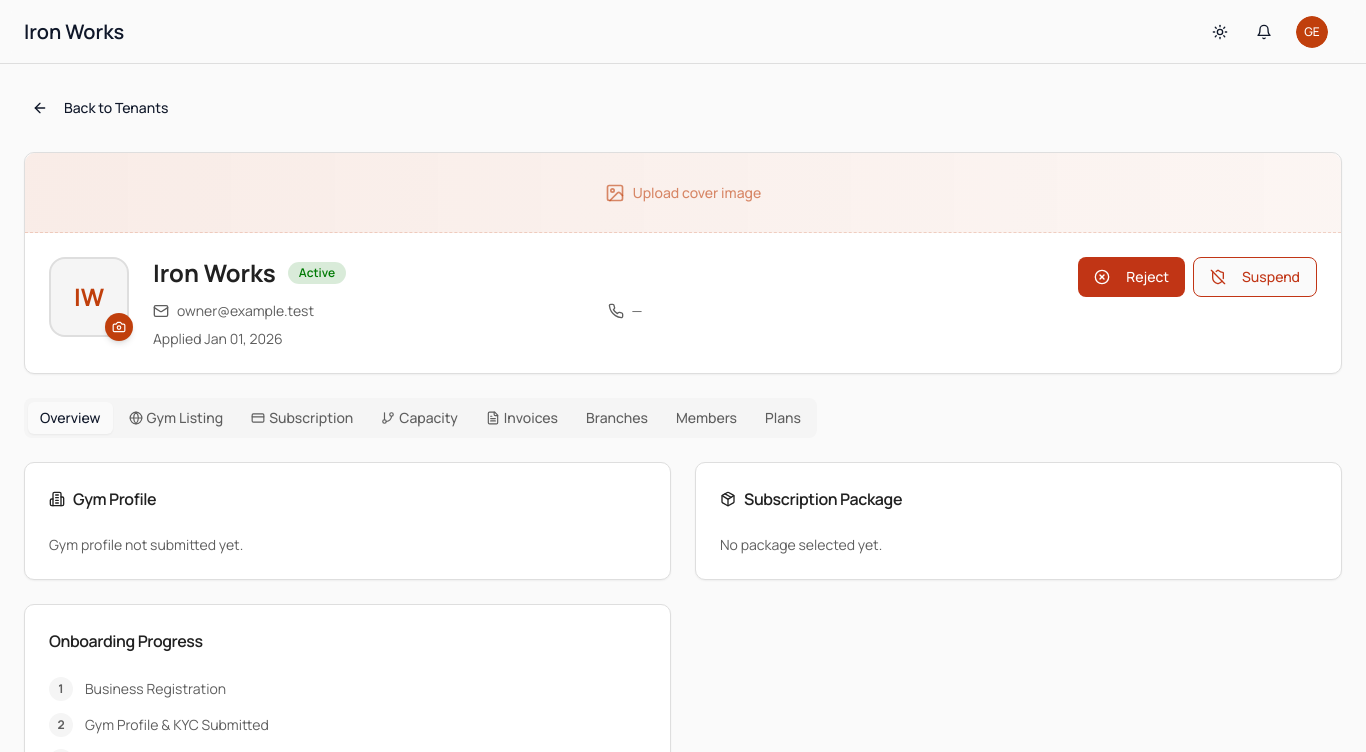
Scenario: Admin tenant detail fetches only the open tab (UX-17, PERF-10) › opening Invoices fetches invoices only
Press the mouse on the tab "Invoices" at [522, 418], box [474,402,570,434]
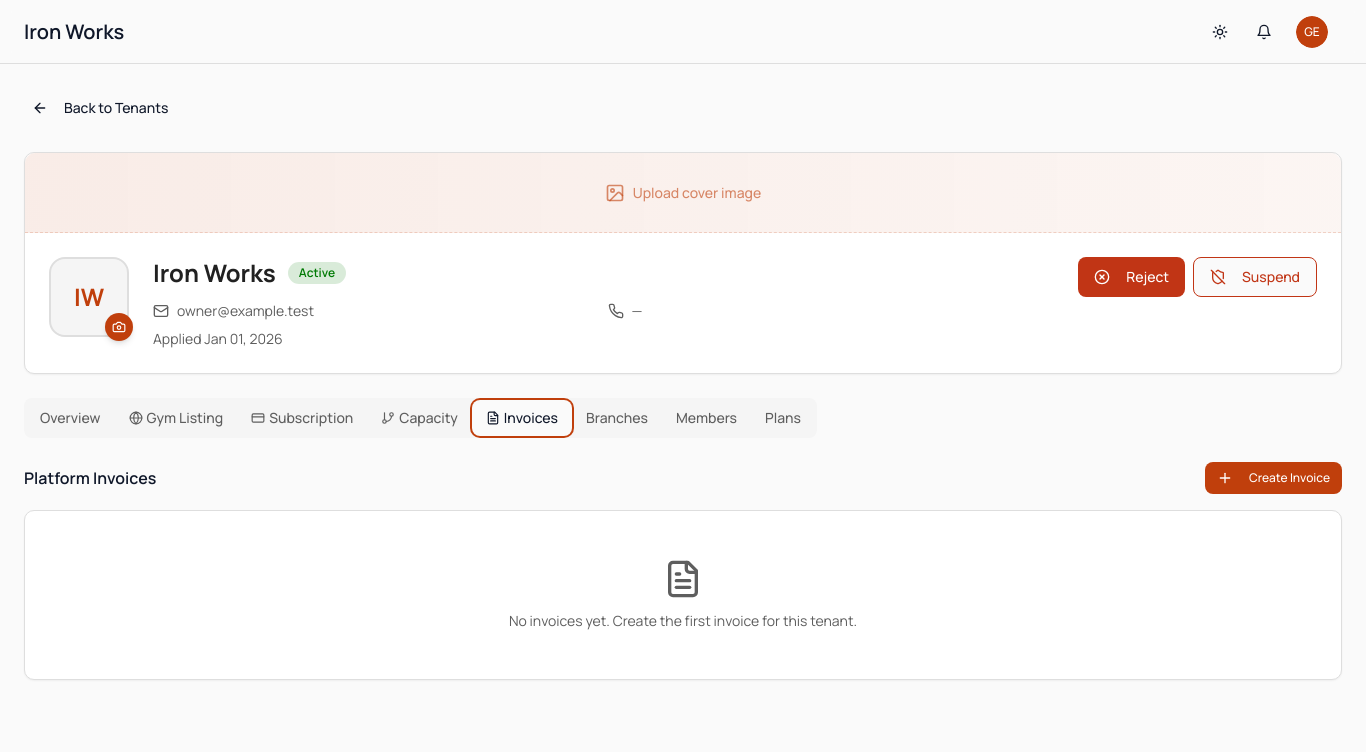
Expected: the text "No invoices yet. Create the first invoice for this tenant." is shown, [509,611,857,630]
